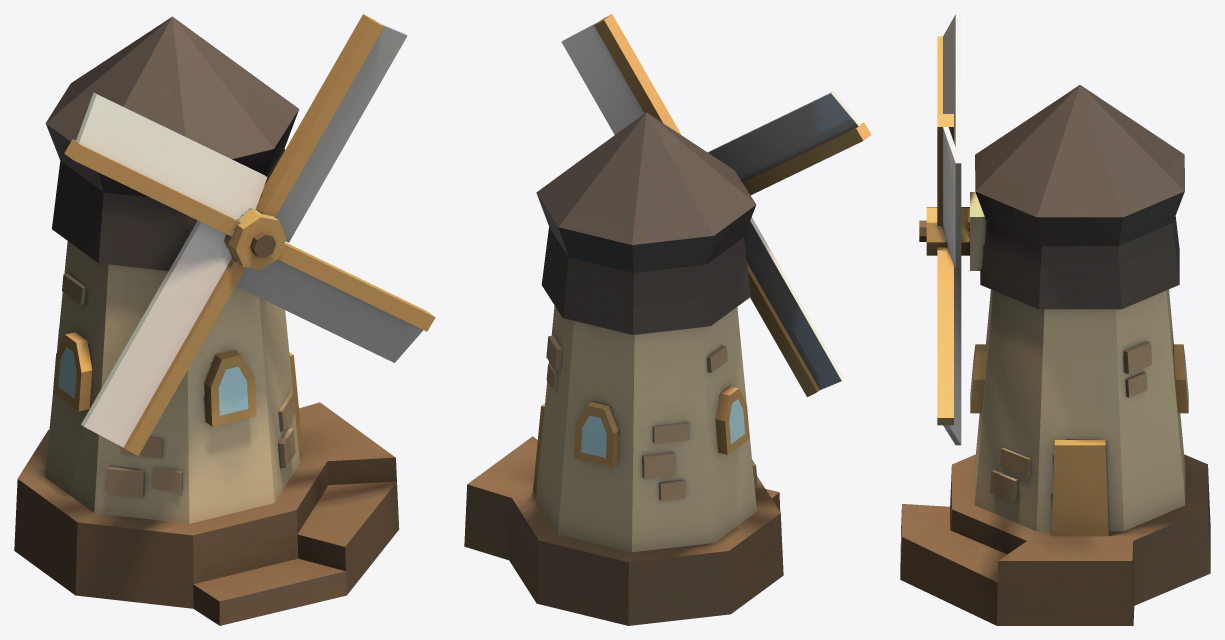
Rendered from ctIRaIM3zXu.glb.
3 renders of one model, left to right at view 1: azimuth 30°, elevation 25°; view 2: azimuth 150°, elevation 25°; view 3: azimuth 270°, elevation 25°, orthographic. The views are drawn at different scales.
Visible parts, largest first — view 1: windmill; view 2: windmill; view 3: windmill.
Part boxes in pixels (<box>): windmill: <box>14,14,435,625</box>; windmill: <box>464,14,871,625</box>; windmill: <box>900,14,1210,625</box>.
Size of the model in its own units: 0.6882 by 1 by 0.5765.
1 material, 1 textured.
